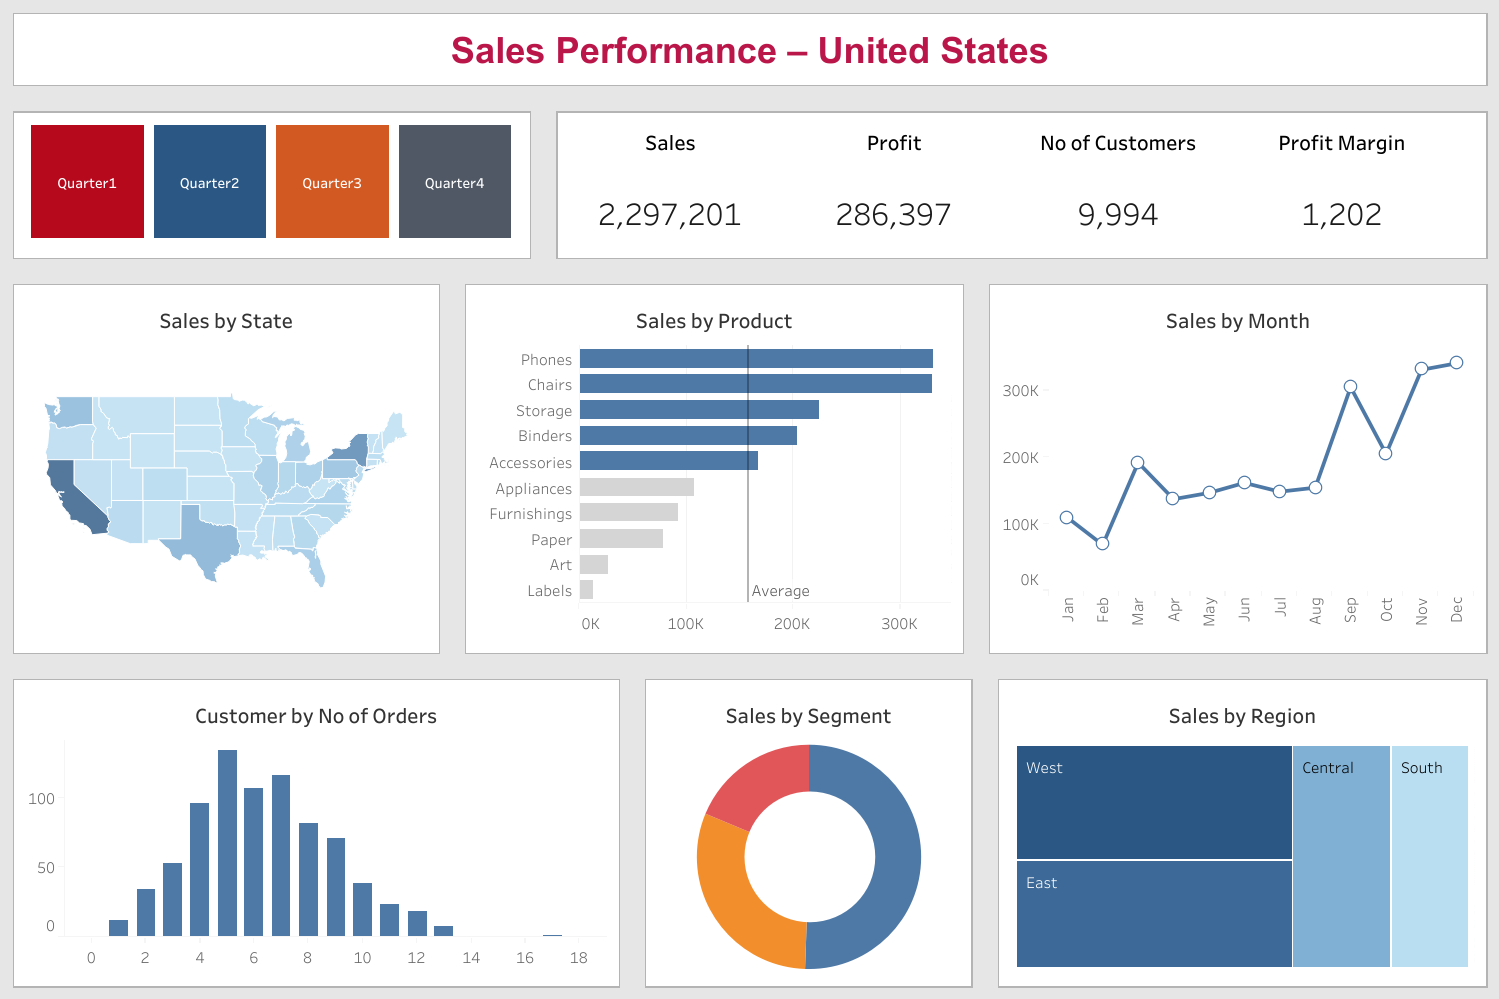

The page's visual inventory and layout, read from the dashboard file:
{"tool":"tableau","page":{"name":"Final Dashboard","canvas":[1200,800],"ordinal":0},"visuals":[{"type":"text","box":[0,0,1200,79]},{"type":"worksheet","title":"Quarter Selector","mark":"Square","cols":["Calculation_168040593982197764"],"box":[0,79,435,138]},{"type":"worksheet","title":"KPIs","mark":"Automatic","box":[435,79,765,138]},{"type":"worksheet","title":"Sales by State","mark":"Automatic","box":[0,217,362,316]},{"type":"worksheet","title":"Sales by Product","mark":"Automatic","rows":["Sub-Category"],"cols":["Sales"],"box":[362,217,419,316]},{"type":"worksheet","title":"Sales by Month","mark":"Automatic","rows":["Sales","Sales"],"cols":["Order Date"],"box":[781,217,419,316]},{"type":"worksheet","title":"Customers by No.of Orders","mark":"Bar","rows":["Customer Name"],"cols":["Calculation_168040593979449347"],"box":[0,533,506,267]},{"type":"worksheet","title":"Sales by Segment","mark":"Pie","cols":["Calculation_1375849722559012865","Calculation_1375849722559012865"],"box":[506,533,282,267]},{"type":"worksheet","title":"Sales by Region","mark":"Automatic","box":[788,533,412,267]}]}

Visuals, with their boxes in screenshot pixels (x1, y1, x2, y2), scaled from the page's 1200x800 canvas onto the 1499x999 screenshot:
text: bbox=(0, 0, 1498, 99)
"Quarter Selector" worksheet (Square marks): bbox=(0, 99, 543, 271)
"KPIs" worksheet: bbox=(543, 99, 1498, 271)
"Sales by State" worksheet: bbox=(0, 271, 452, 666)
"Sales by Product" worksheet: bbox=(452, 271, 976, 666)
"Sales by Month" worksheet: bbox=(976, 271, 1498, 666)
"Customers by No.of Orders" worksheet (Bar marks): bbox=(0, 666, 632, 998)
"Sales by Segment" worksheet (Pie marks): bbox=(632, 666, 984, 998)
"Sales by Region" worksheet: bbox=(984, 666, 1498, 998)
